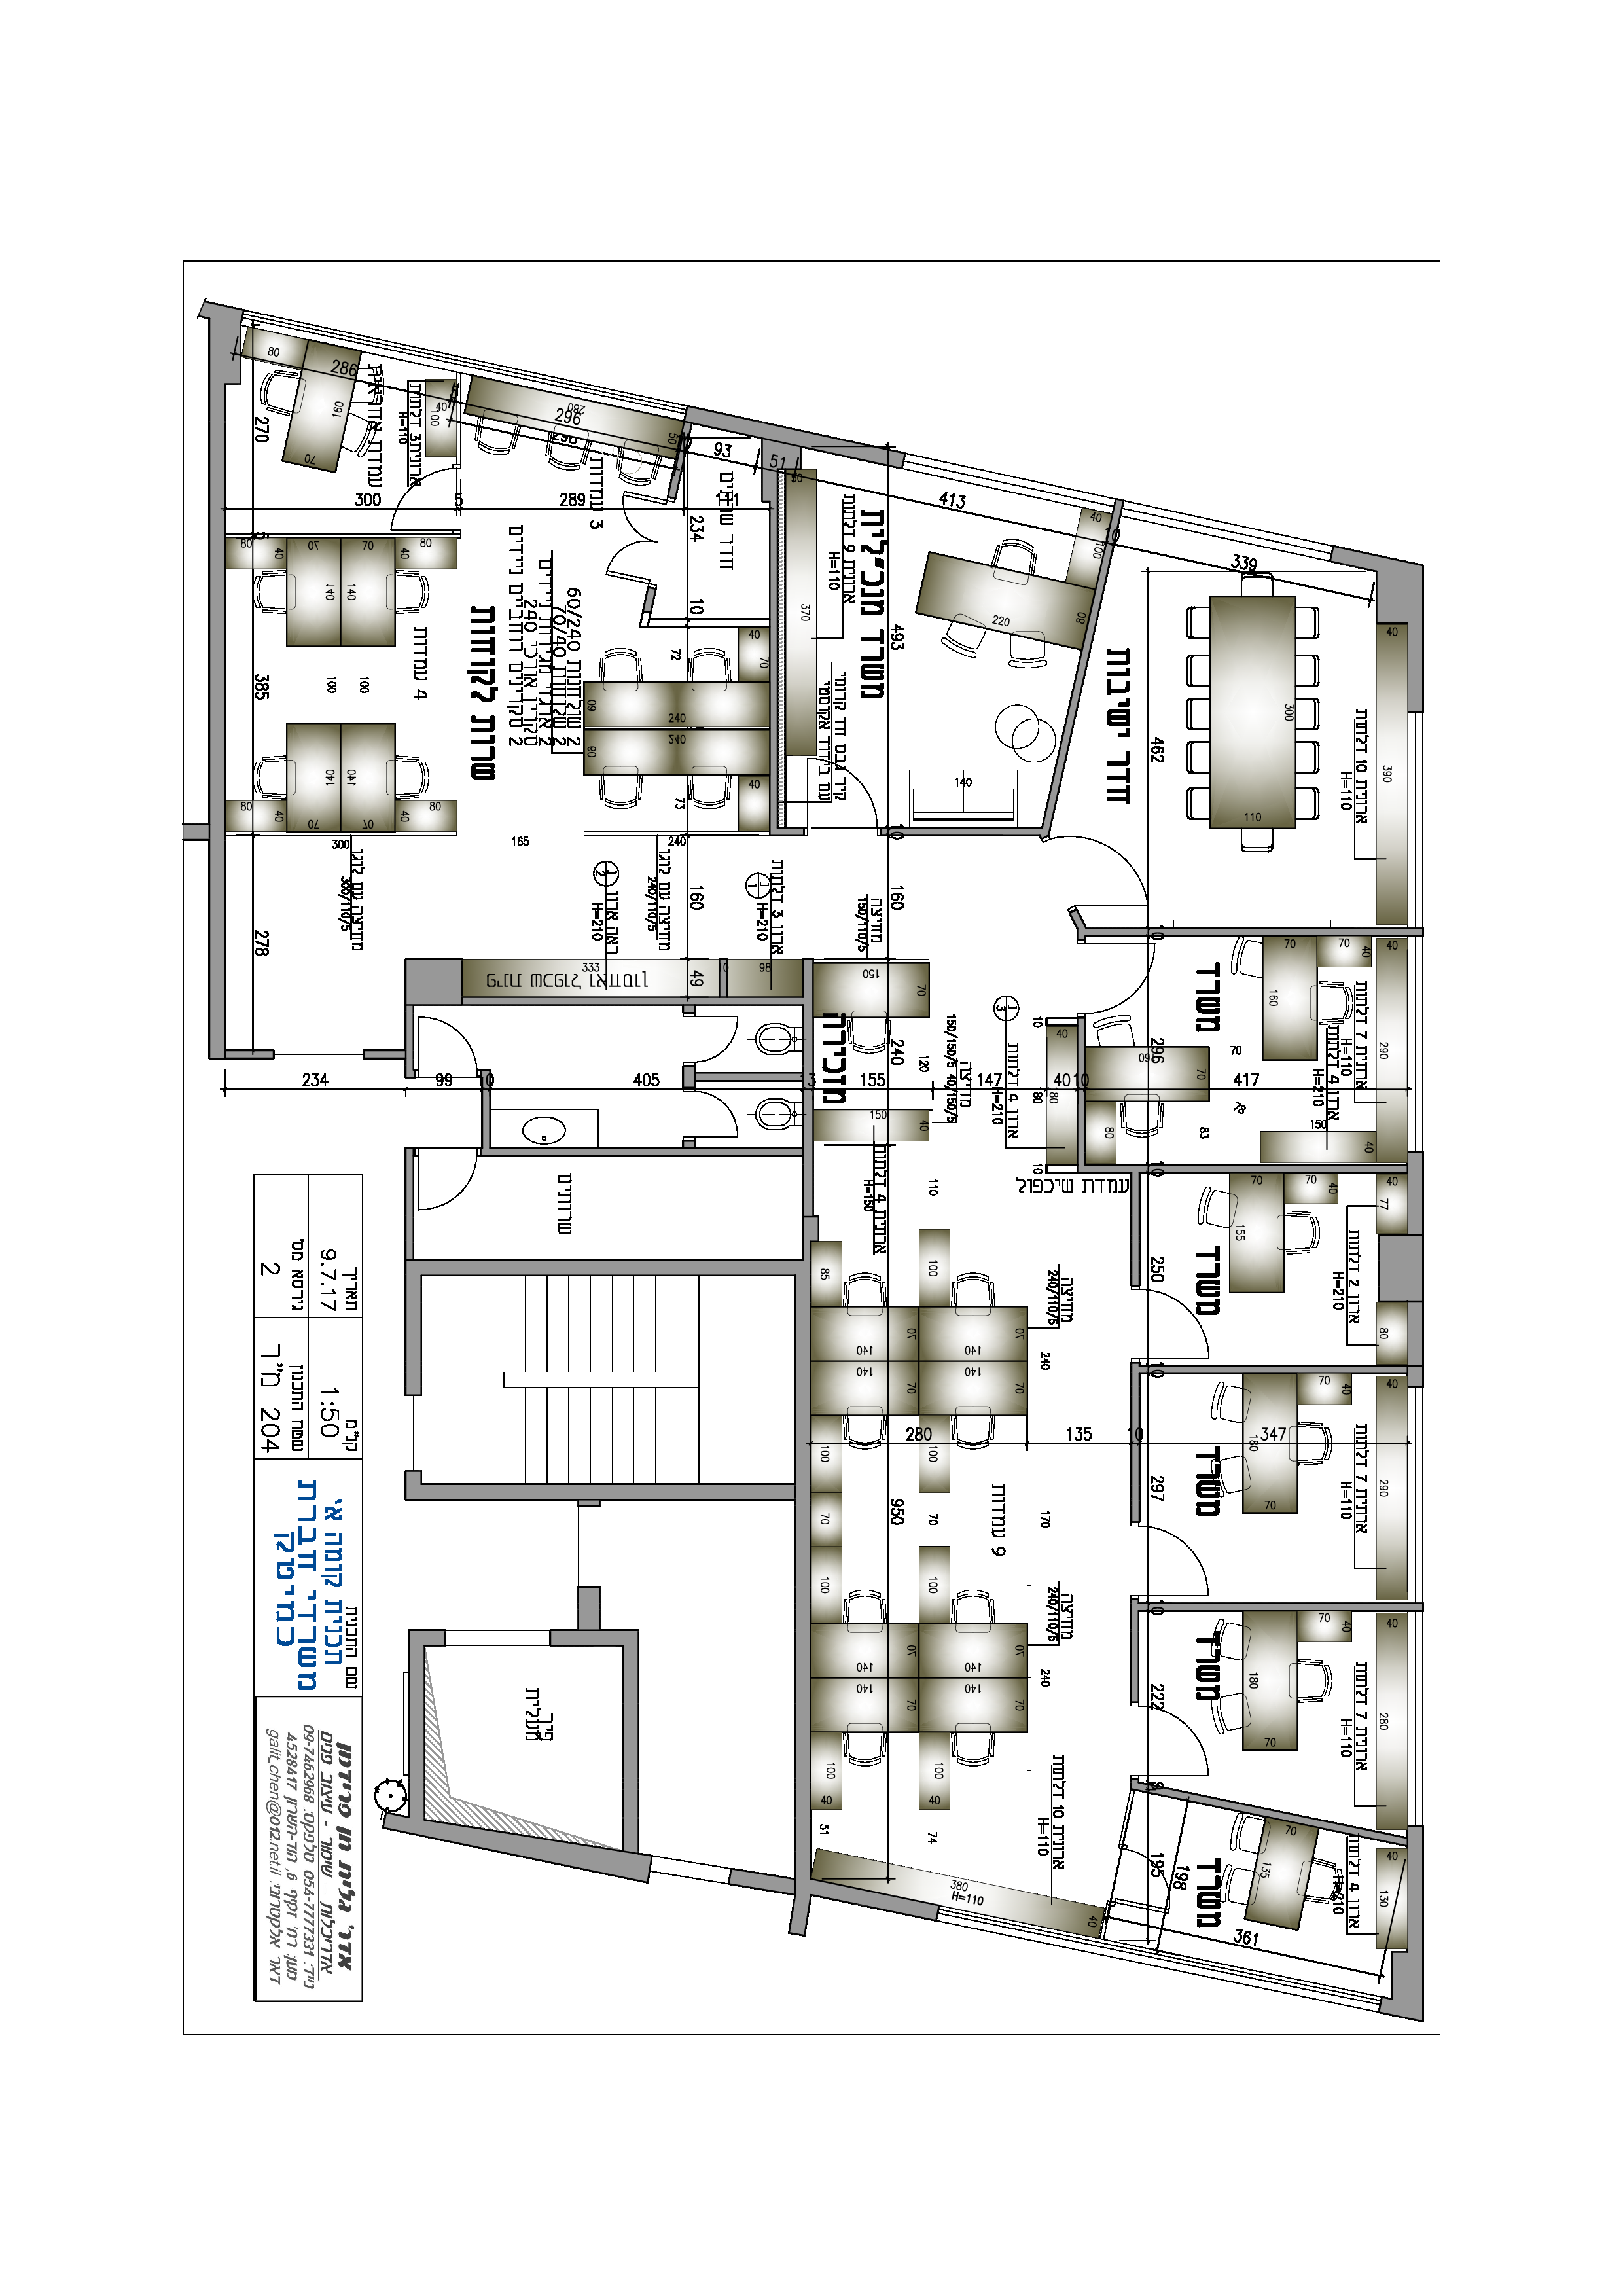door: (1050, 834, 1149, 910), (1089, 936, 1161, 1019), (1152, 1697, 1217, 1788), (1158, 1518, 1224, 1600), (1152, 1288, 1214, 1368), (416, 1014, 483, 1068), (416, 1165, 485, 1217), (699, 1012, 743, 1065), (697, 1012, 741, 1063), (697, 1093, 741, 1144)
wall: (400, 1472, 794, 1504), (796, 1251, 810, 1857), (211, 390, 221, 1058), (408, 1263, 806, 1274), (1409, 1830, 1423, 2015), (624, 1635, 636, 1845), (411, 1634, 422, 1820), (771, 511, 776, 833), (497, 1149, 797, 1154), (488, 1267, 789, 1272), (1172, 1365, 1388, 1372), (408, 1268, 418, 1391), (1168, 1166, 1393, 1172), (557, 1632, 632, 1643), (1410, 1156, 1421, 1230), (908, 829, 1040, 834), (1133, 1166, 1138, 1282), (580, 1588, 595, 1625), (1410, 1307, 1421, 1361), (1131, 1602, 1136, 1699), (1078, 1093, 1084, 1172), (1133, 1446, 1138, 1520), (483, 1093, 488, 1151), (408, 1007, 411, 1073), (365, 1052, 400, 1058)
window: (443, 1620, 555, 1651)
